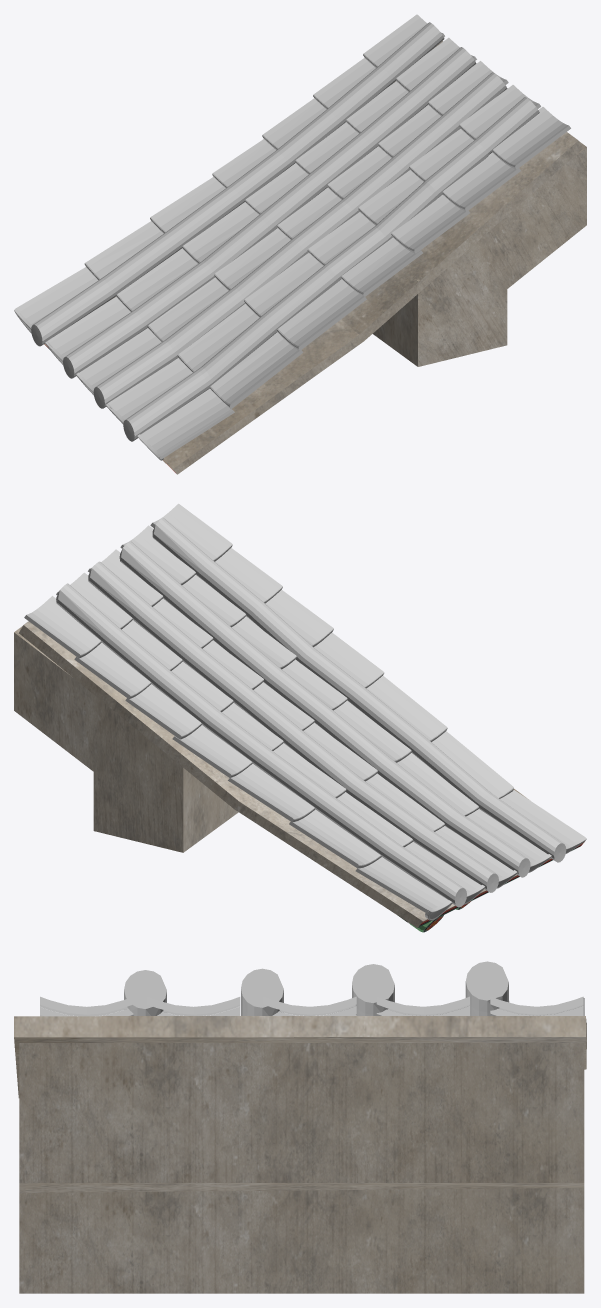
Rendered from SM_Roof_22.fbx.
3 views of the same model, one above another, from view 1: azimuth 30°, elevation 25°; view 2: azimuth 150°, elevation 25°; view 3: azimuth 270°, elevation 25° (orthographic). The views are drawn at different scales.
Parts seen in each view (by area): view 1: SM_Roof_22; view 2: SM_Roof_22; view 3: SM_Roof_22.
Part boxes in pixels (<box>): SM_Roof_22: <box>14,14,586,474</box>; SM_Roof_22: <box>14,503,586,932</box>; SM_Roof_22: <box>14,961,586,1293</box>.
Size of the model in its own units: 333 by 219 by 204.
